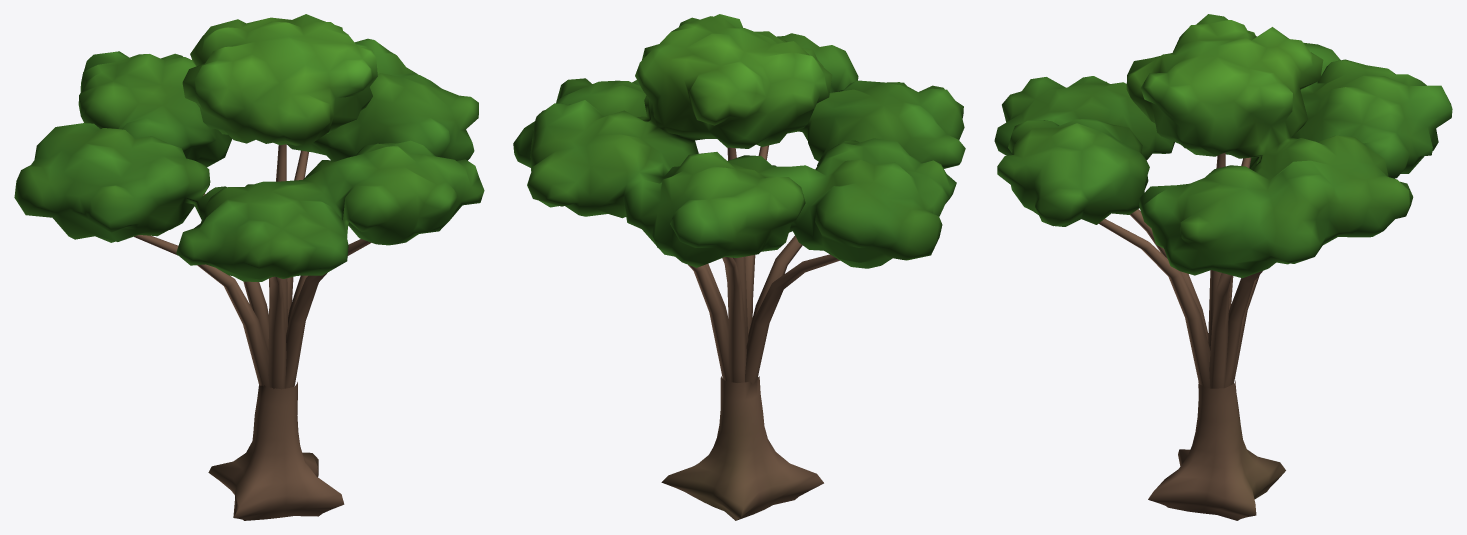
File: tree-broadleaf-b.glb
3 views of the same model, side by side, from view 1: azimuth 30°, elevation 25°; view 2: azimuth 150°, elevation 25°; view 3: azimuth 270°, elevation 25° (orthographic).
Visible parts, largest first — view 1: Broadleaf B Leaves, Broadleaf B Bark; view 2: Broadleaf B Leaves, Broadleaf B Bark; view 3: Broadleaf B Leaves, Broadleaf B Bark.
Boxes of the visible parts, x1=… form: Broadleaf B Leaves: x1=14, y1=14, x2=484, y2=281; Broadleaf B Bark: x1=134, y1=144, x2=371, y2=520; Broadleaf B Leaves: x1=513, y1=14, x2=965, y2=268; Broadleaf B Bark: x1=661, y1=145, x2=839, y2=520; Broadleaf B Leaves: x1=994, y1=14, x2=1452, y2=278; Broadleaf B Bark: x1=1099, y1=152, x2=1285, y2=520.
Bounding box in the file's own units: 8.43 × 9.04 × 8.05.
